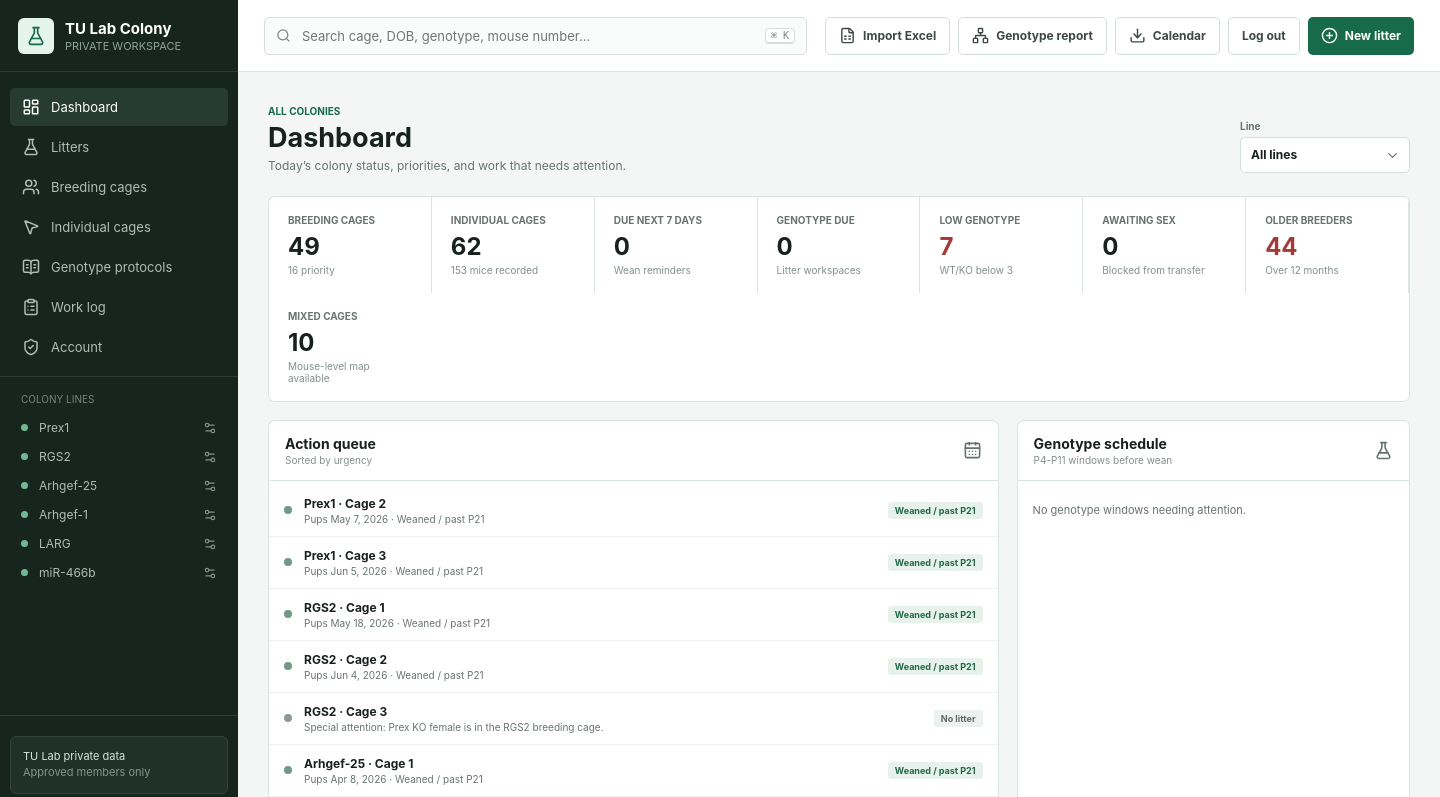
Test: colony line filtering › archives and restores a colony line from the sidebar
Click the button named "Manage LARG": (210,544) x1=196 y1=530 x2=224 y2=558
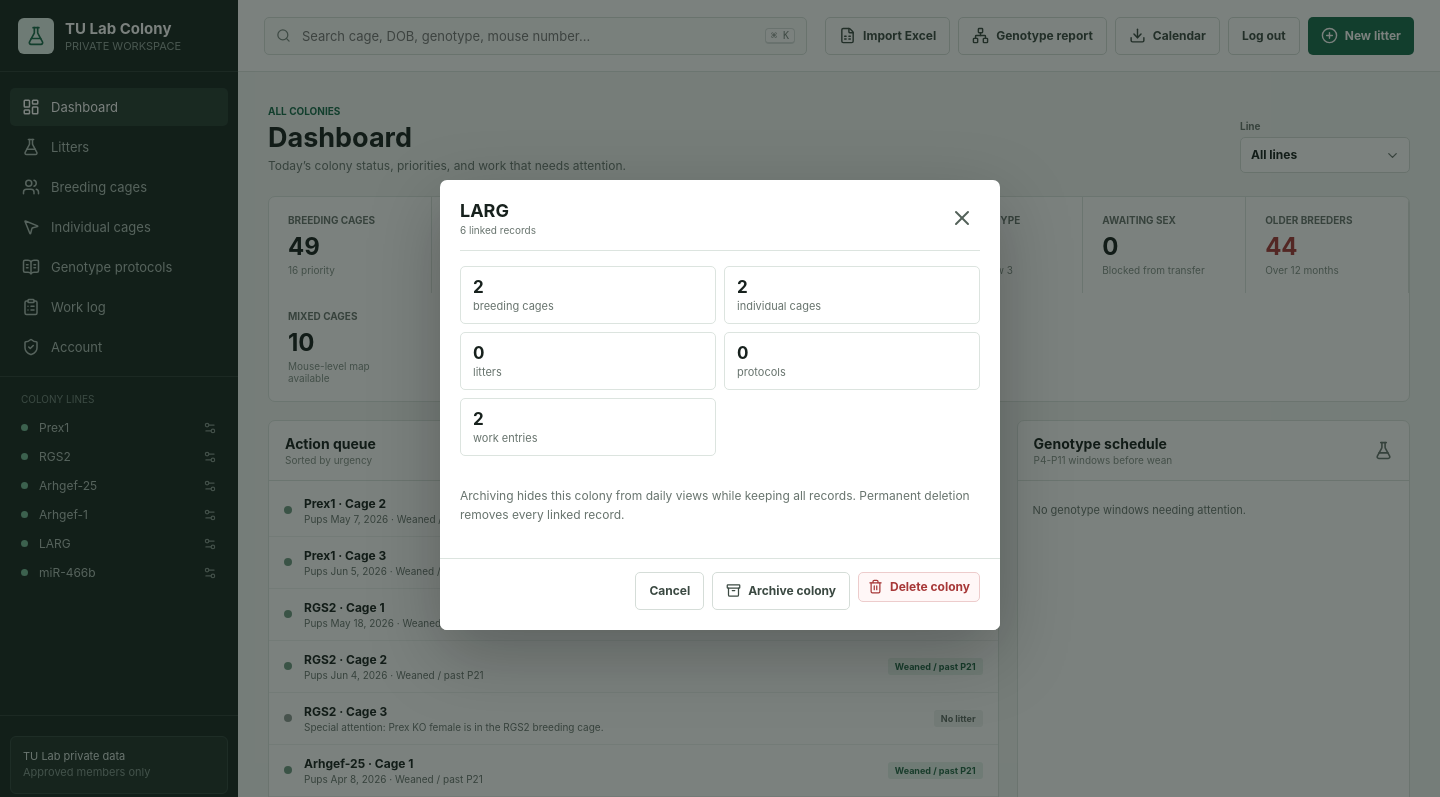
Click the button "Archive colony": (781,591) x1=712 y1=572 x2=850 y2=610
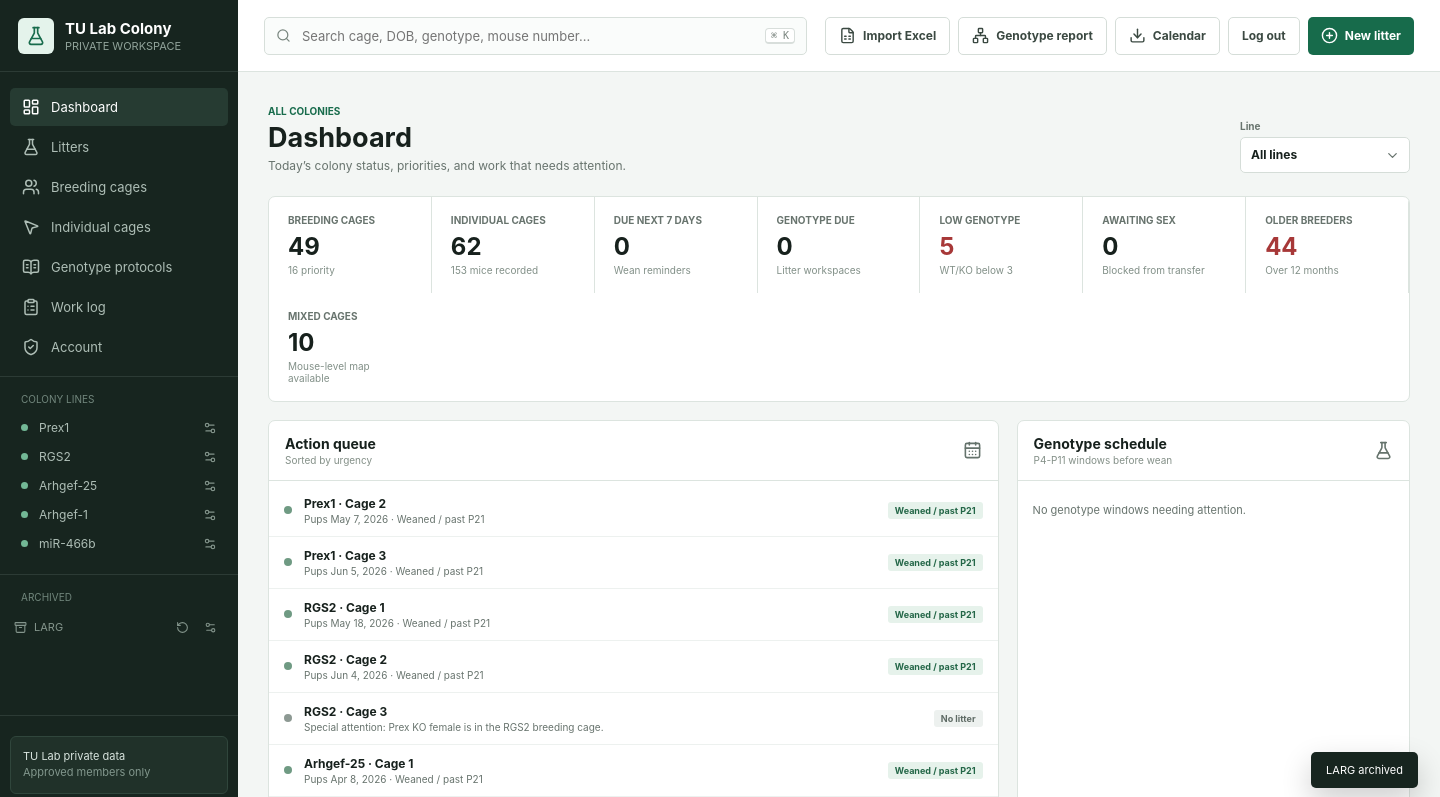
Now the button named "Restore LARG" is shown
Click the button named "Restore LARG": (182,627) x1=168 y1=613 x2=196 y2=641
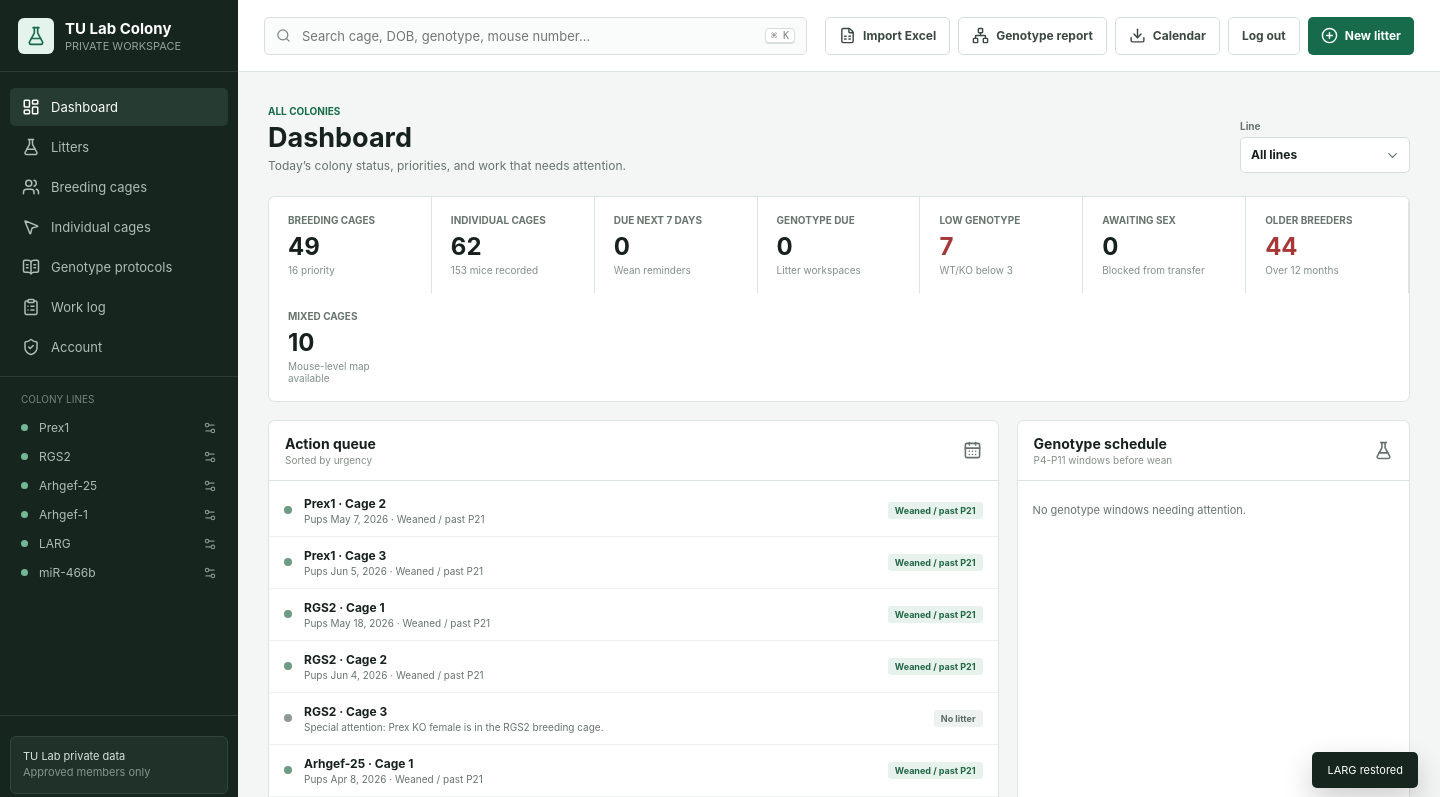
Now the button "LARG" is shown, box x1=14 y1=529 x2=193 y2=558
